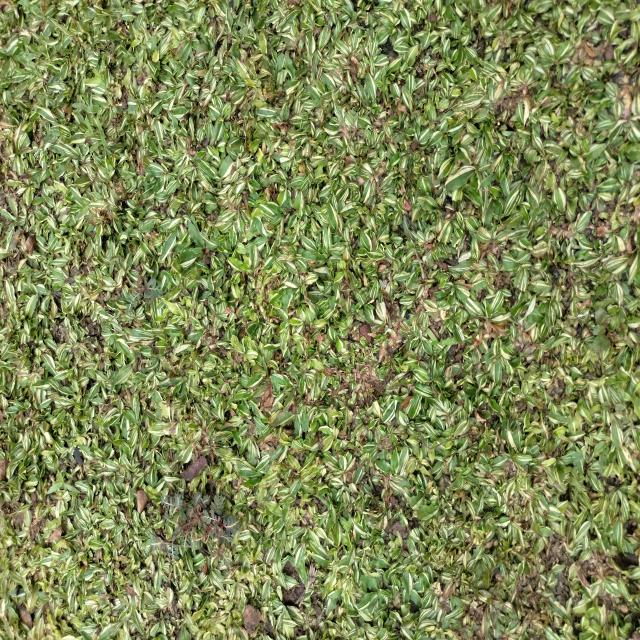buah daun: (148, 493, 242, 563), (124, 276, 164, 317)
rambat atas: (47, 468, 81, 498)
